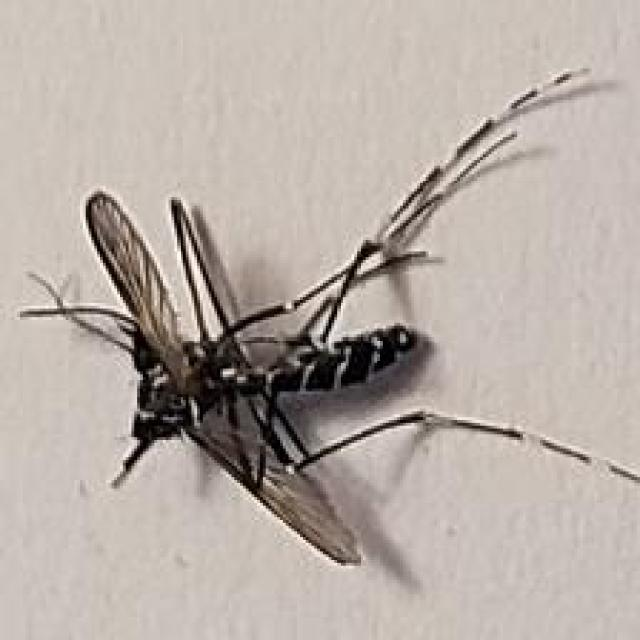Aedes albopictus: (17, 64, 640, 570)
